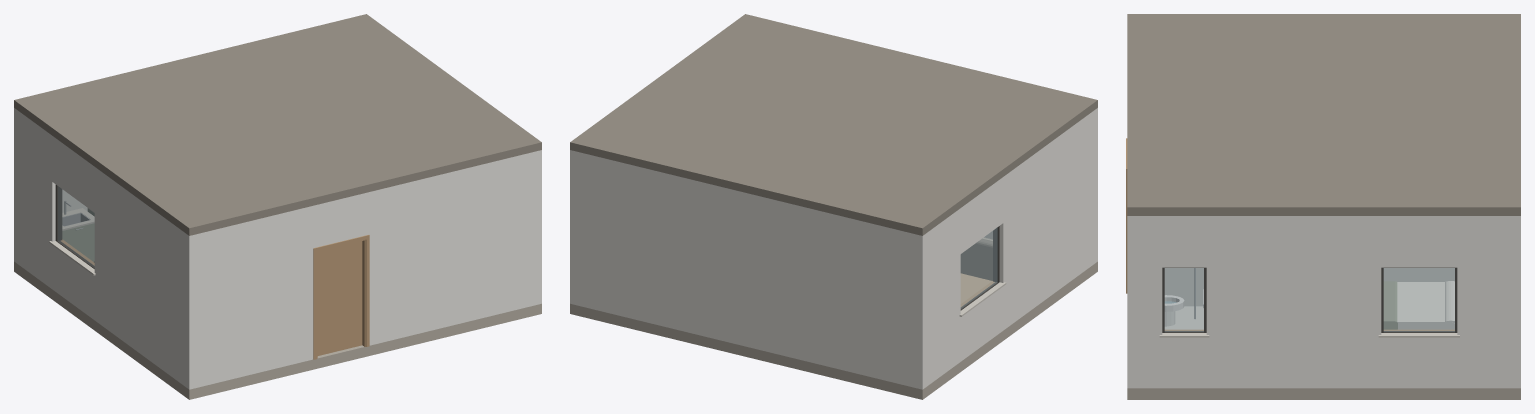
Rendered from studio.glb.
The picture shows the model from 3 angles, left to right: view 1: azimuth 30°, elevation 25°; view 2: azimuth 150°, elevation 25°; view 3: azimuth 270°, elevation 25°; orthographic projection. The views are drawn at different scales.
Parts seen in each view (by area): view 1: wall:exterior_1, roof:roof, slab:slab, door:d_main, window:window_1:glass, furniture:kitchen_sink_1, door:d_main:casing, door:d_main:lining; view 2: wall:exterior_1, roof:roof, slab:slab, window:window_1:glass, furniture:sofa_5, floor:r_living; view 3: roof:roof, wall:exterior_1, slab:slab, window:window_2:glass, furniture:bed_6, window:window_3:glass, wall:partition_2, floor:r_bath, window:window_2:frame, window:window_3:frame, furniture:wc_9, window:window_2:sill.
Boxes of the visible parts, left/top/right/bottom form: wall:exterior_1: left=14, top=108, right=541, bottom=389; roof:roof: left=14, top=14, right=541, bottom=235; slab:slab: left=14, top=261, right=541, bottom=399; door:d_main: left=317, top=241, right=362, bottom=355; window:window_1:glass: left=58, top=186, right=94, bottom=267; furniture:kitchen_sink_1: left=62, top=200, right=94, bottom=262; door:d_main:casing: left=313, top=235, right=369, bottom=359; door:d_main:lining: left=317, top=239, right=365, bottom=357; wall:exterior_1: left=570, top=108, right=1097, bottom=389; roof:roof: left=570, top=14, right=1097, bottom=235; slab:slab: left=570, top=261, right=1097, bottom=399; window:window_1:glass: left=961, top=228, right=997, bottom=308; furniture:sofa_5: left=960, top=237, right=992, bottom=280; floor:r_living: left=960, top=273, right=991, bottom=303; roof:roof: left=1127, top=14, right=1520, bottom=215; wall:exterior_1: left=1127, top=216, right=1520, bottom=388; slab:slab: left=1127, top=388, right=1520, bottom=399; window:window_2:glass: left=1384, top=268, right=1454, bottom=331; furniture:bed_6: left=1383, top=281, right=1454, bottom=329; window:window_3:glass: left=1165, top=268, right=1203, bottom=331; wall:partition_2: left=1164, top=268, right=1454, bottom=306; floor:r_bath: left=1164, top=306, right=1203, bottom=329; window:window_2:frame: left=1381, top=267, right=1457, bottom=332; window:window_3:frame: left=1162, top=267, right=1206, bottom=332; furniture:wc_9: left=1164, top=295, right=1184, bottom=326; window:window_2:sill: left=1378, top=333, right=1459, bottom=337.
Bounding box in the file's own units: 7.28 × 3.35 × 6.22.
